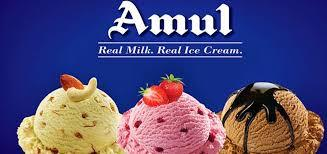Amul: (105, 1, 234, 40)
